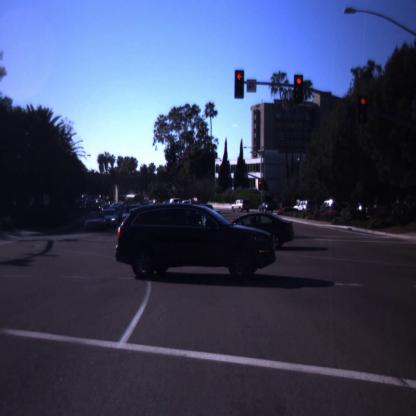trafficlight: (357, 88, 372, 124), (293, 75, 306, 106), (235, 70, 245, 103)
